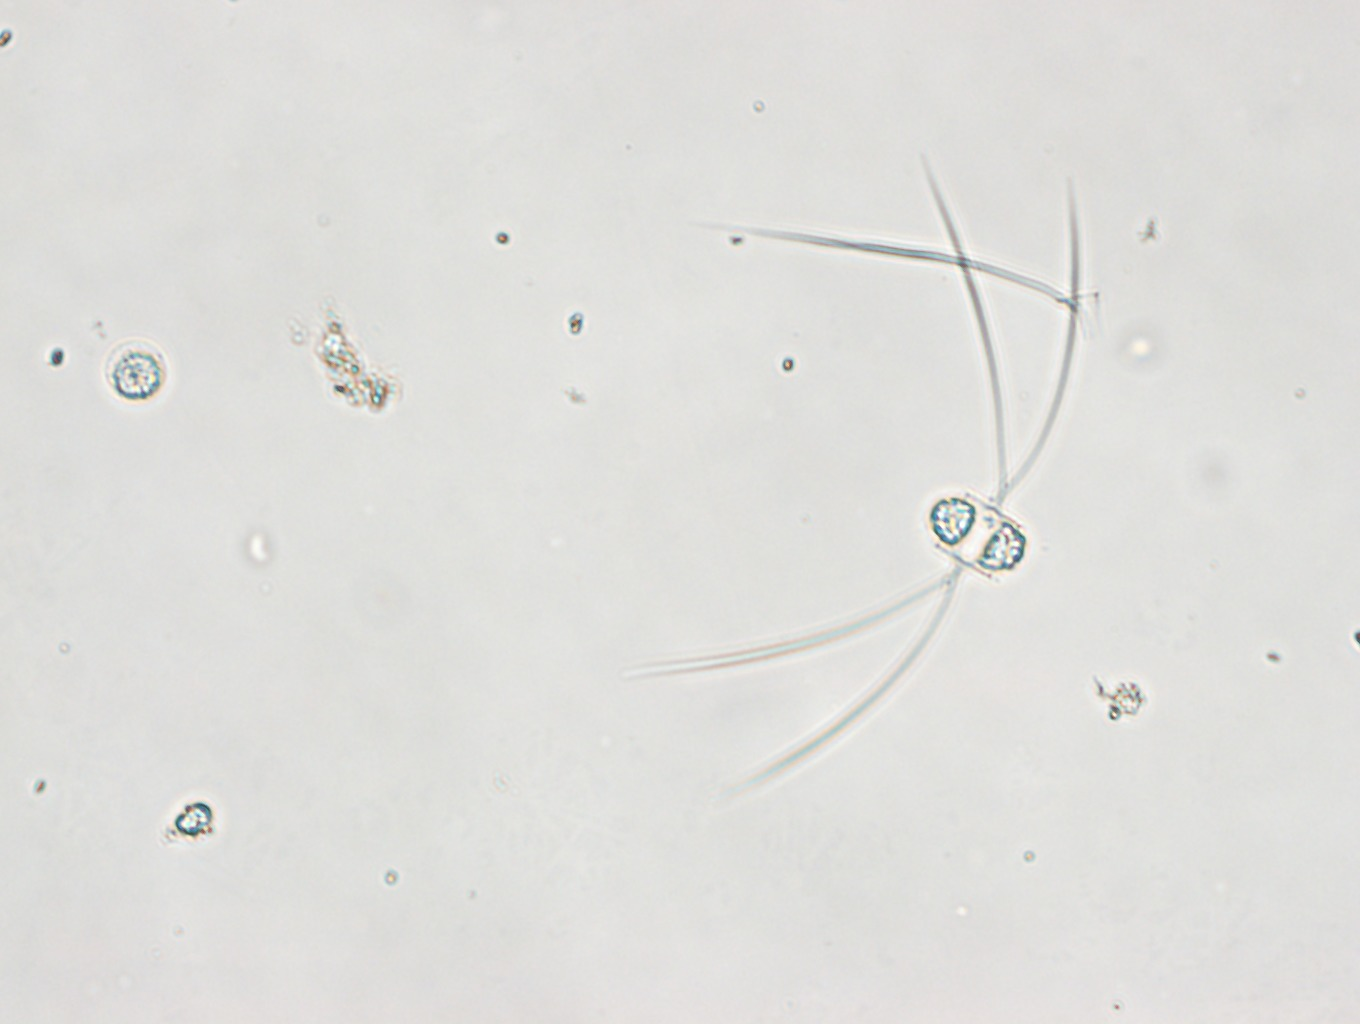chaetoceros: (612, 155, 1083, 805)
